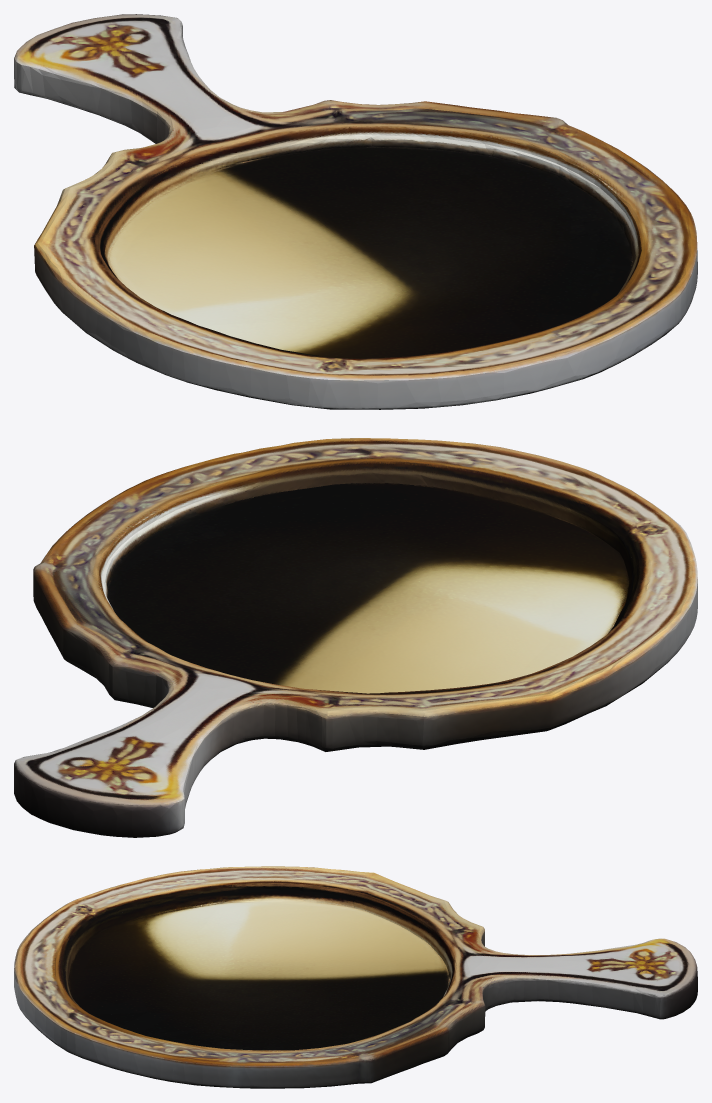
The model's file is porcelain-hand-mirror-art-deco.jpeg.glb.
3 renders of one model, top to bottom at view 1: azimuth 30°, elevation 25°; view 2: azimuth 150°, elevation 25°; view 3: azimuth 270°, elevation 25°, orthographic. The views are drawn at different scales.
Parts seen in each view (by area): view 1: world; view 2: world; view 3: world.
Boxes of the visible parts, x1,y1,x2,y2 form: world: [14, 14, 697, 409]; world: [14, 438, 697, 837]; world: [14, 866, 697, 1088].
Bounding box in the file's own units: 0.6933 × 0.0479 × 0.9997.
1 material, 1 textured.
